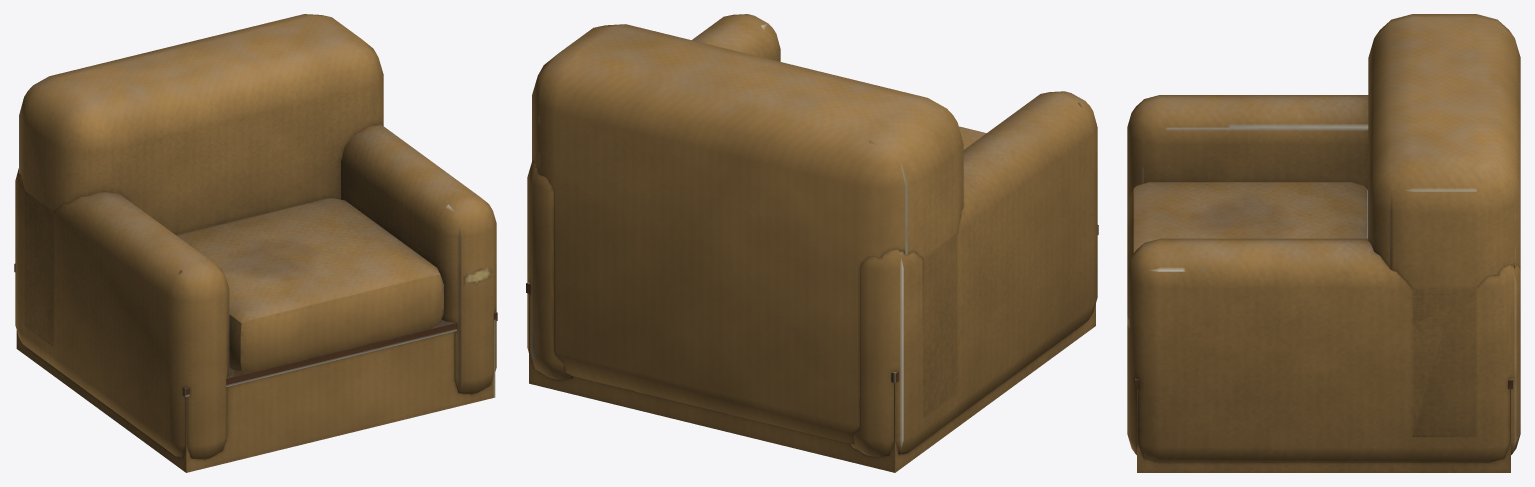
File: H_Armchair_Mustard.fbx
3 renders of one model, left to right at view 1: azimuth 30°, elevation 25°; view 2: azimuth 150°, elevation 25°; view 3: azimuth 270°, elevation 25°, orthographic. The views are drawn at different scales.
Visible parts, largest first — view 1: H_Armchair_Mustard; view 2: H_Armchair_Mustard; view 3: H_Armchair_Mustard.
Part boxes in pixels (x1=…): H_Armchair_Mustard: x1=14, y1=14, x2=497, y2=472; H_Armchair_Mustard: x1=526, y1=14, x2=1098, y2=472; H_Armchair_Mustard: x1=1127, y1=14, x2=1520, y2=472.
Bounding box in the file's own units: 420 × 340 × 400.
Materials: 1 (1 with a texture image).
